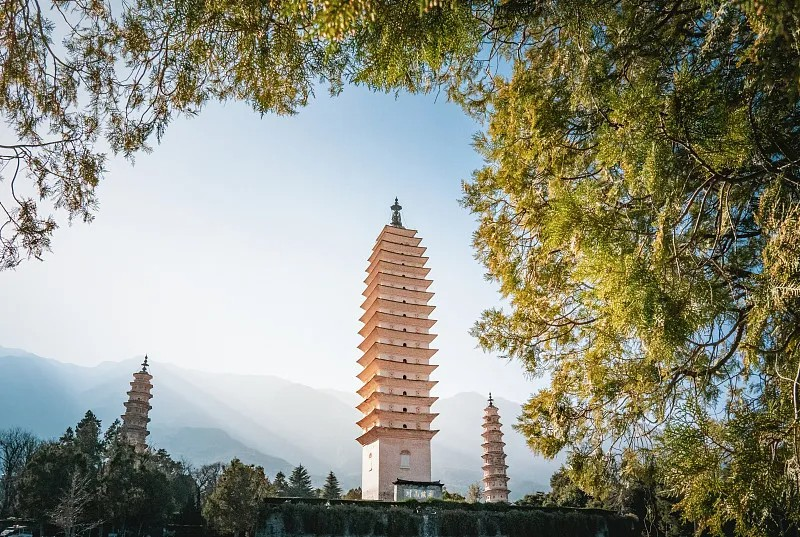ThreePagoda: (356, 198, 440, 501)
